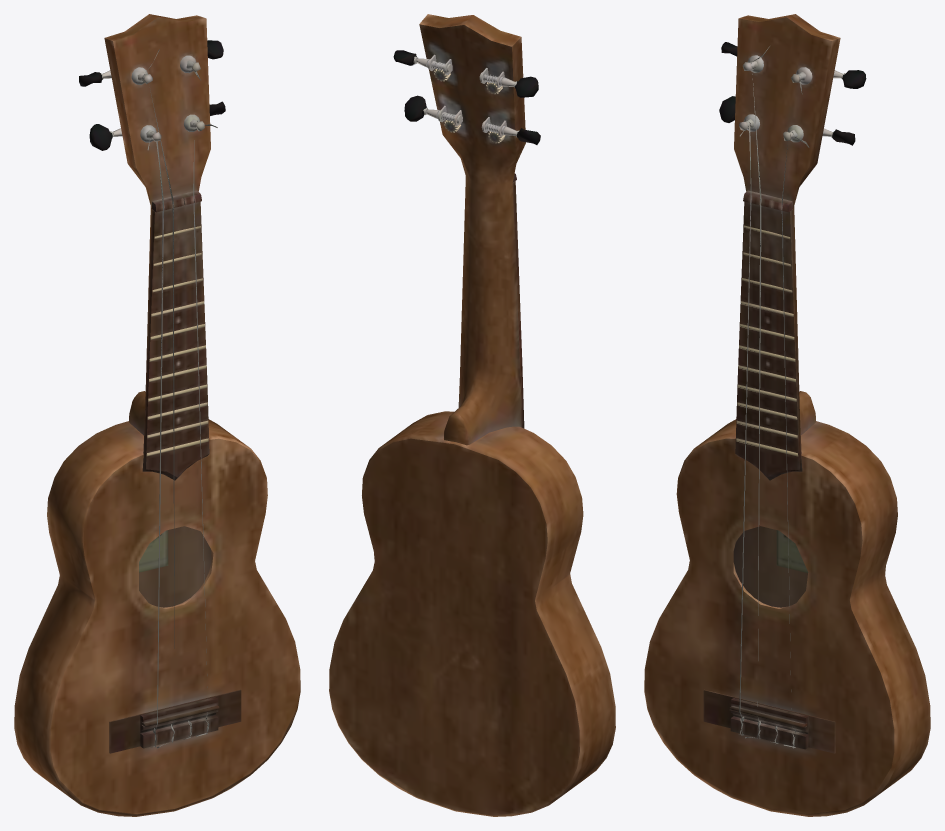
The model's file is Ukulele_01.glb.
3 renders of one model, left to right at view 1: azimuth 30°, elevation 25°; view 2: azimuth 150°, elevation 25°; view 3: azimuth 330°, elevation 25°, orthographic.
Parts seen in each view (by area): view 1: Ukulele_01; view 2: Ukulele_01; view 3: Ukulele_01.
Part boxes in pixels (x1,y1,x2,y2): Ukulele_01: (14,14,300,816); Ukulele_01: (329,14,615,816); Ukulele_01: (644,14,930,816).
Size of the model in its own units: 0.1779 by 0.527 by 0.0507.
1 material, 1 textured.
